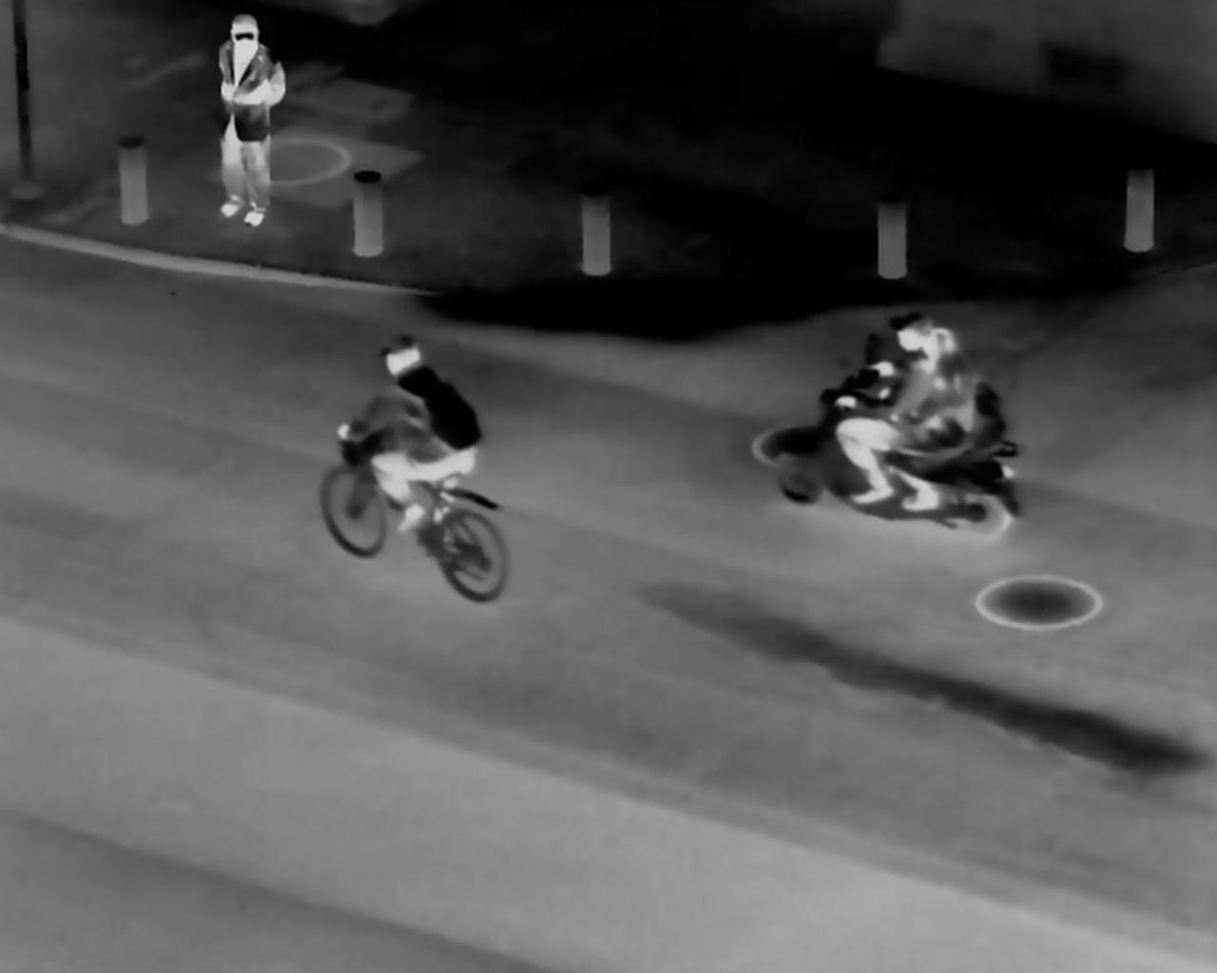person: (337, 326, 497, 538), (203, 10, 293, 228), (849, 294, 936, 503), (923, 315, 978, 462)
